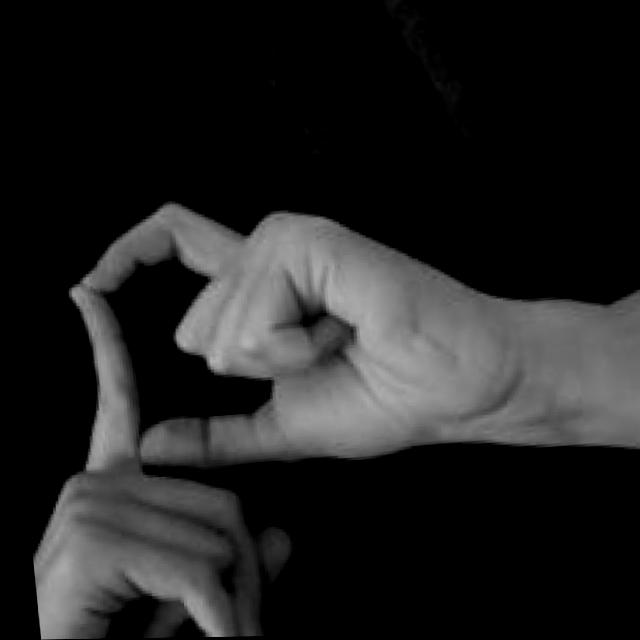D: (5, 171, 520, 640)
